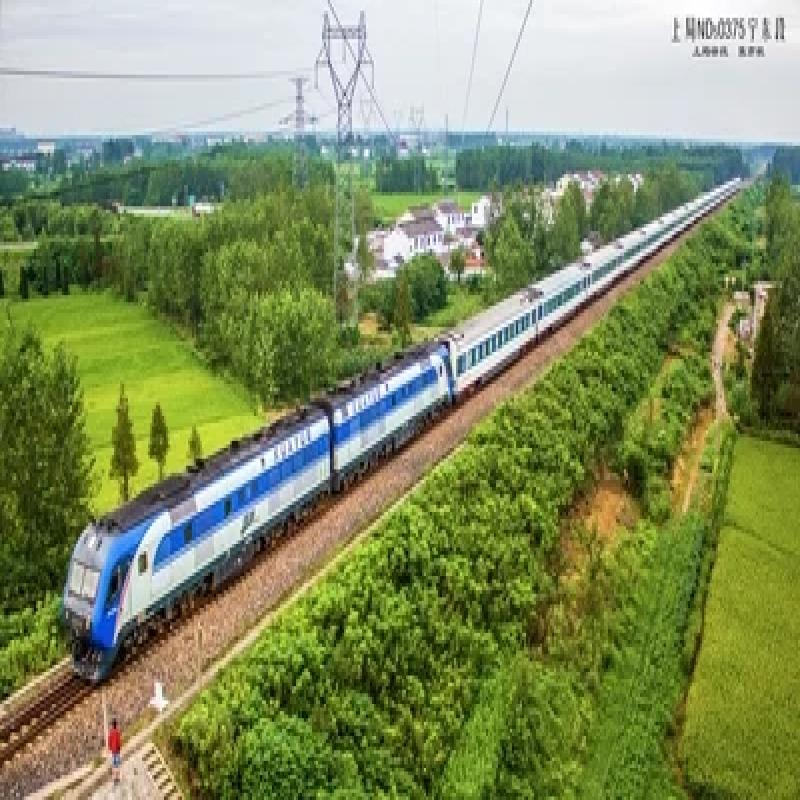train: (59, 172, 745, 687)
